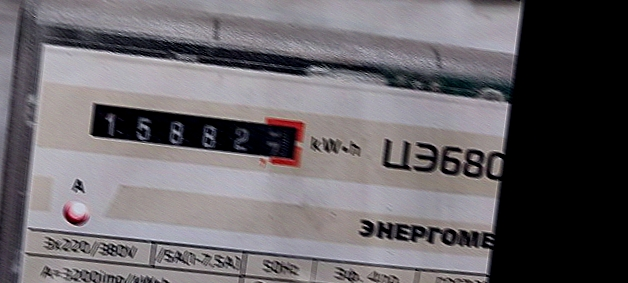1: (100, 108, 117, 137)
2: (230, 123, 250, 153)
5: (132, 113, 153, 142)
7: (262, 137, 280, 156)
8: (164, 117, 184, 147), (198, 120, 217, 150)
screen: (73, 85, 314, 176)
